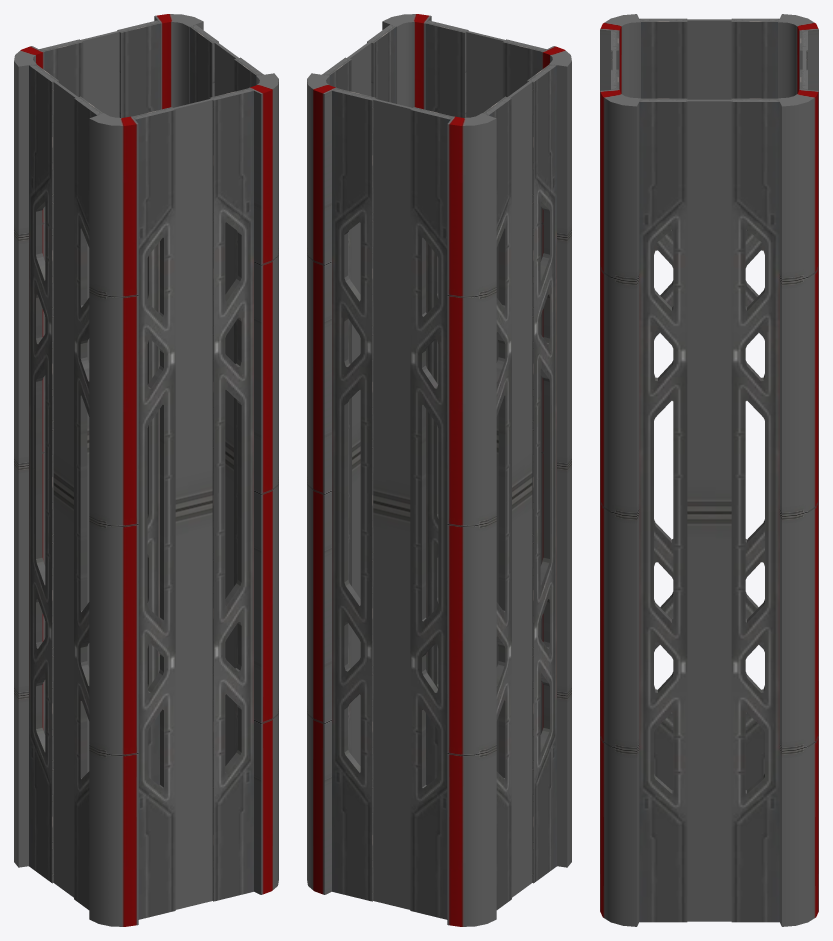
Rendered from Column_Hollow.glb.
3 views of the same model, side by side, from view 1: azimuth 30°, elevation 25°; view 2: azimuth 150°, elevation 25°; view 3: azimuth 270°, elevation 25° (orthographic). The views are drawn at different scales.
Visible parts, largest first — view 1: Column_Hollow; view 2: Column_Hollow; view 3: Column_Hollow.
Part boxes in pixels (<box>): Column_Hollow: <box>14,14,278,926</box>; Column_Hollow: <box>307,14,571,926</box>; Column_Hollow: <box>600,14,818,926</box>.
Size of the model in its own units: 1.21 by 5 by 1.21.
2 materials, 2 textured.
